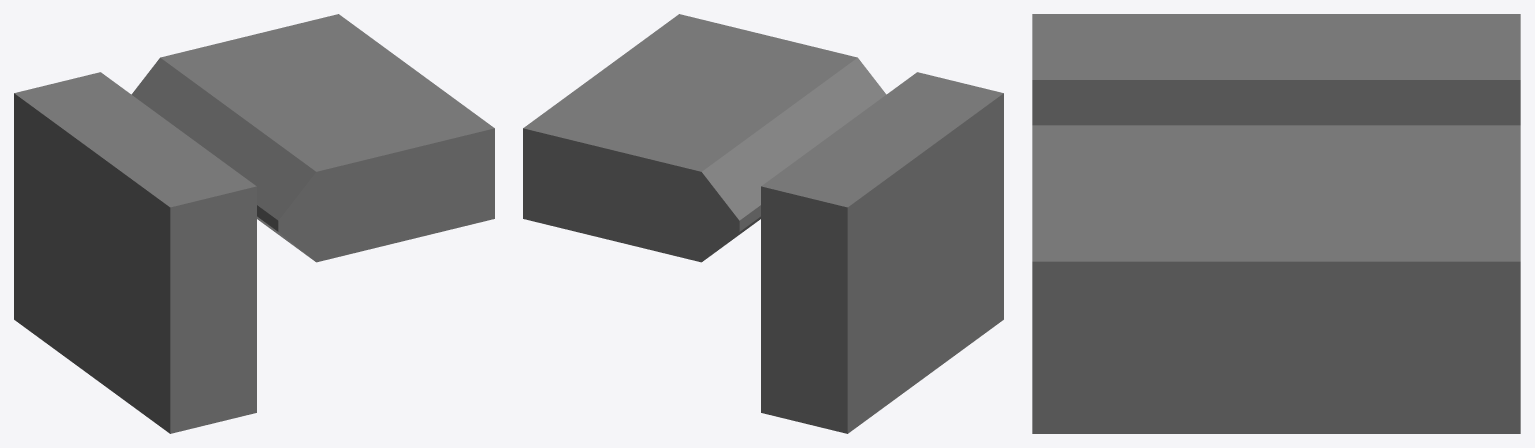
Rendered from У8_Кромки.glb.
The picture shows the model from 3 angles, left to right: view 1: azimuth 30°, elevation 25°; view 2: azimuth 150°, elevation 25°; view 3: azimuth 270°, elevation 25°; orthographic projection. The views are drawn at different scales.
Parts seen in each view (by area): view 1: node_id3; view 2: node_id3; view 3: node_id3.
Boxes of the visible parts, left/top/right/bottom form: node_id3: left=14, top=14, right=494, bottom=433; node_id3: left=523, top=14, right=1003, bottom=433; node_id3: left=1032, top=14, right=1520, bottom=433.
Size of the model in its own units: 0.512 by 0.3413 by 0.4267.
Materials: 1 (1 with a texture image).
